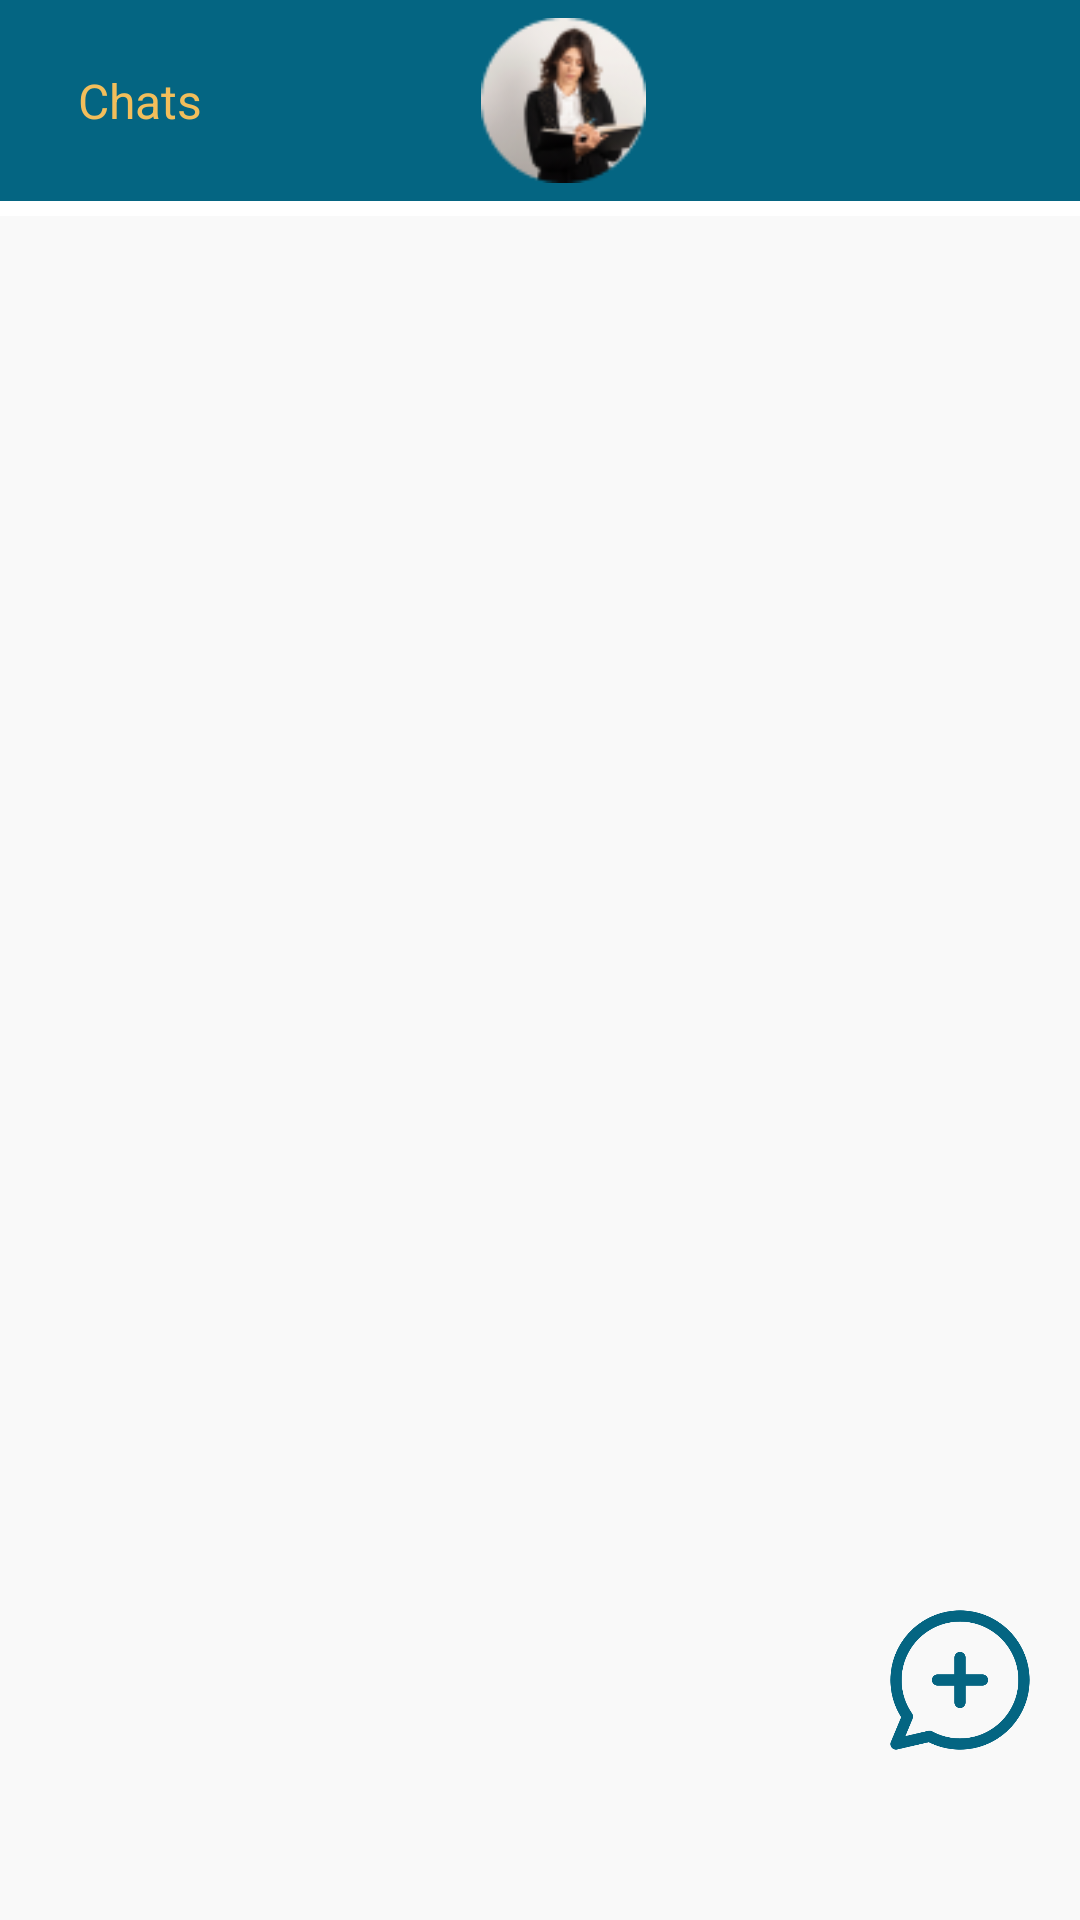

Locate icon controls on the screen. Image size 1080 × 1920, boxes as [x1,y1,x2,y2].
create message: [890,1610,1030,1750]
userphoto: [481,18,646,183]
